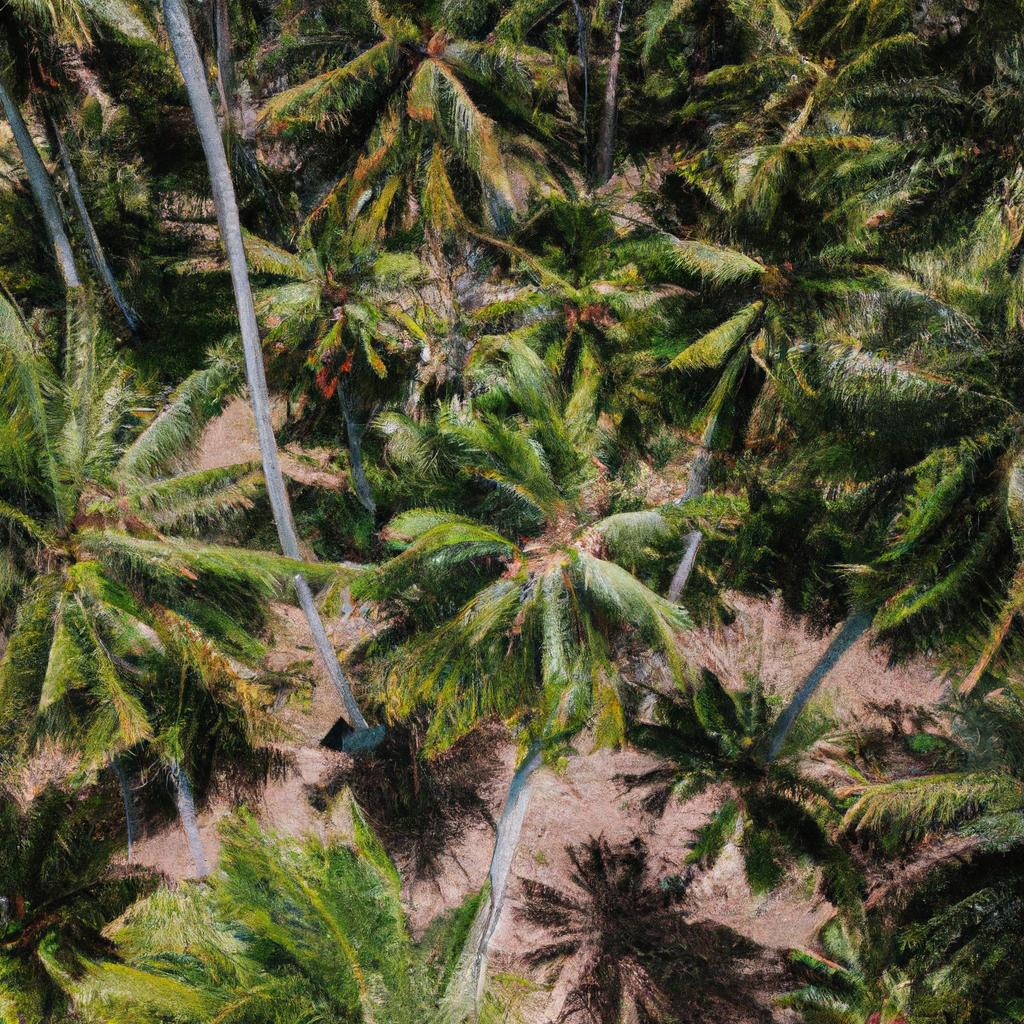coconut_tree: (361, 374, 699, 758), (0, 339, 294, 737)
